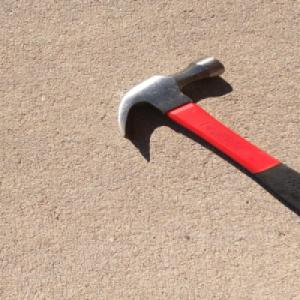Hammer: (113, 53, 300, 219)
